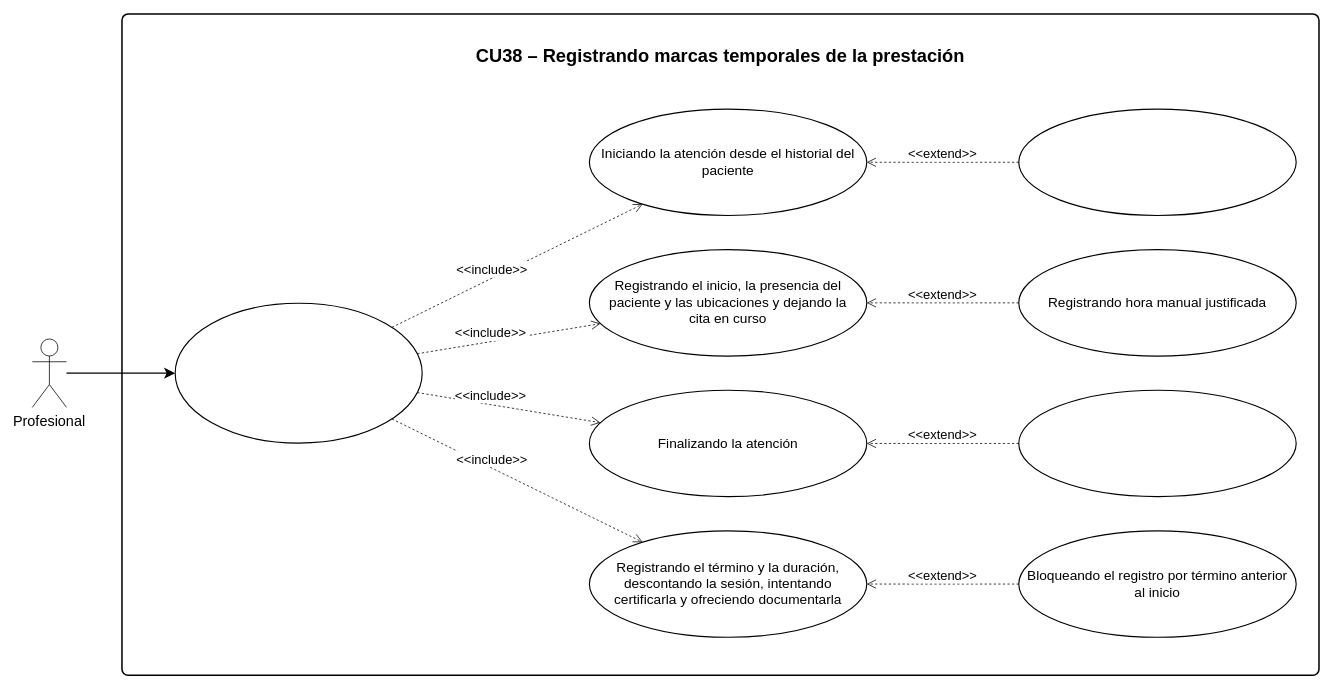
Some shapes in this 1333 by 689 pixel diagram are drawn without their labels. The shapes that lost their labels are listed below. From the top down, each one's centre as x and y in pixels, then its label:
At (x=1157, y=162): "Confirmando inicio anticipado".
At (x=298, y=372): "Registrando marcas temporales de la prestación".
At (x=1157, y=443): "Manteniendo la cita en curso con un aviso permanente".
